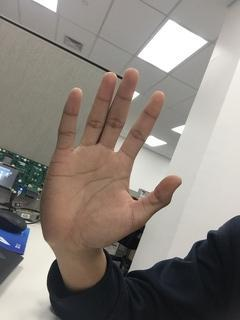hand: (37, 67, 183, 257)
